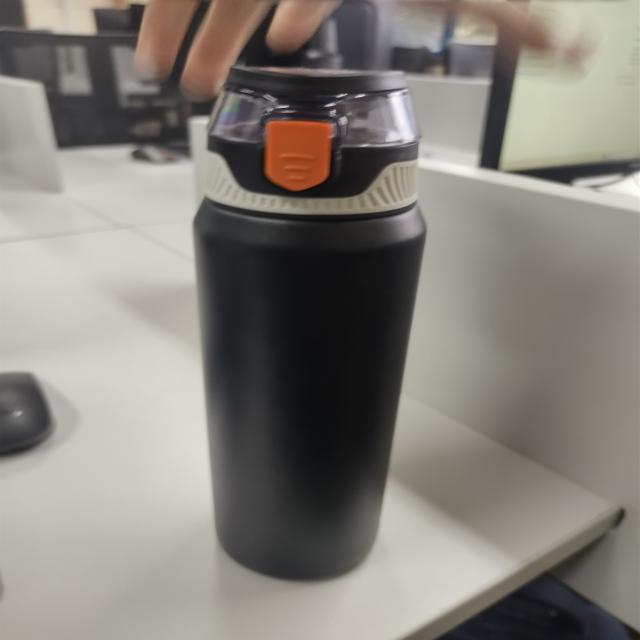Garrafa: (191, 61, 431, 588)
